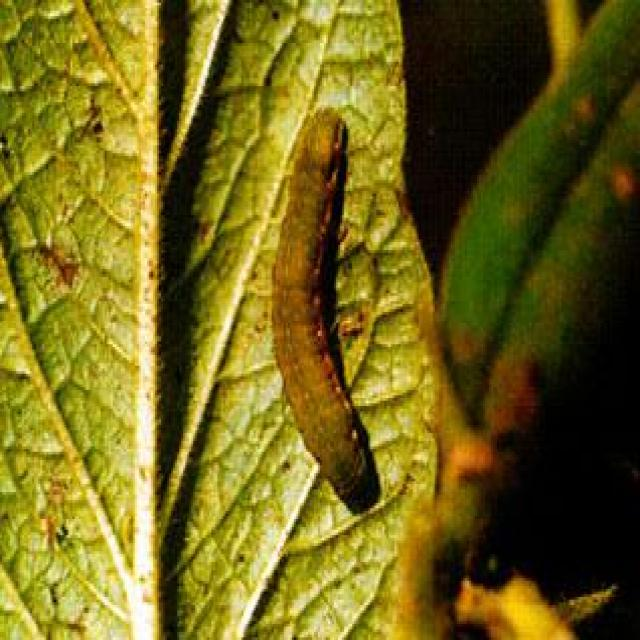BeetArmyWorm-Larva-: (256, 78, 388, 536)
